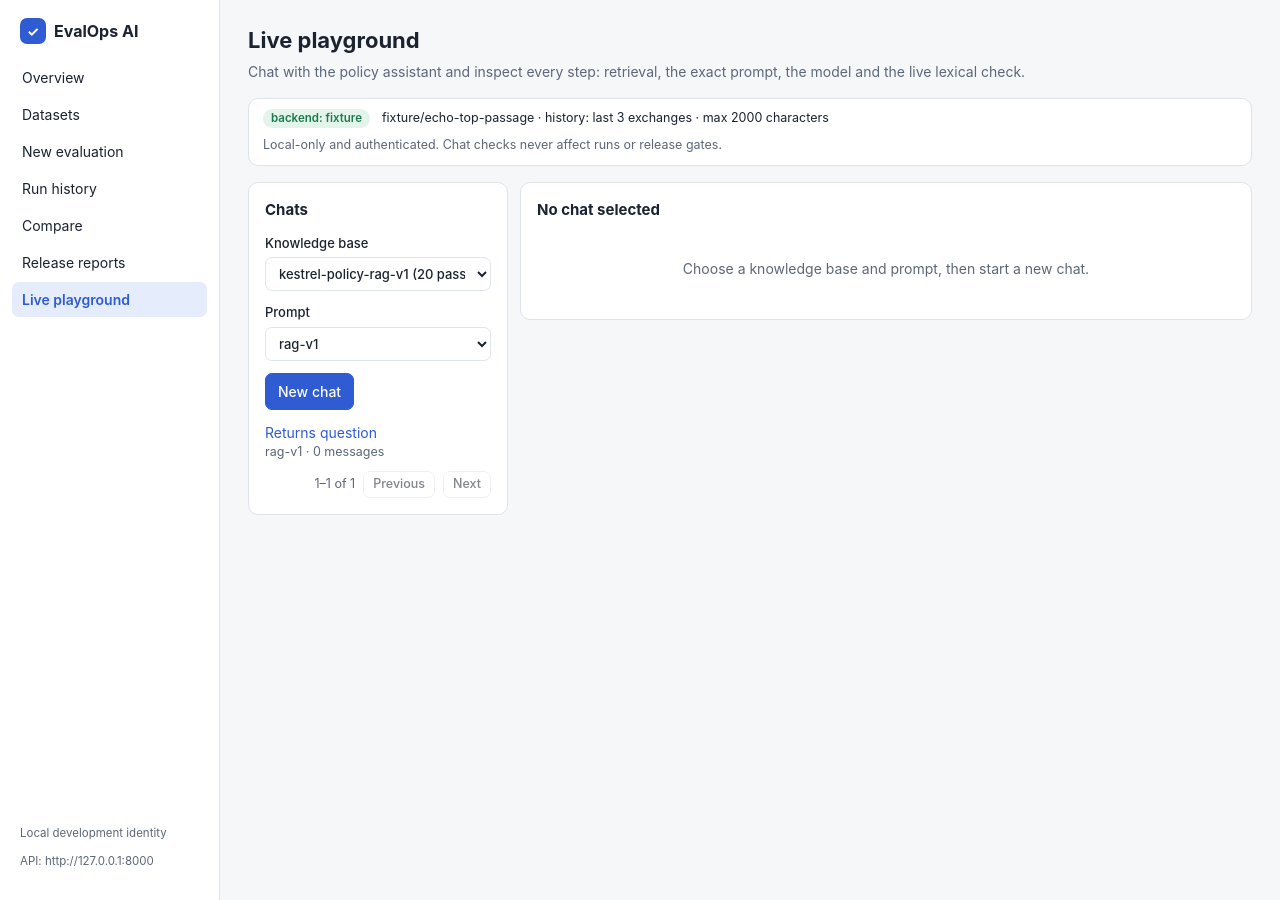
Test case: Live playground › shows a busy error with Retry that resends the same message
Click the button "Returns question". click: (321, 432)
box: [265,422,377,442]
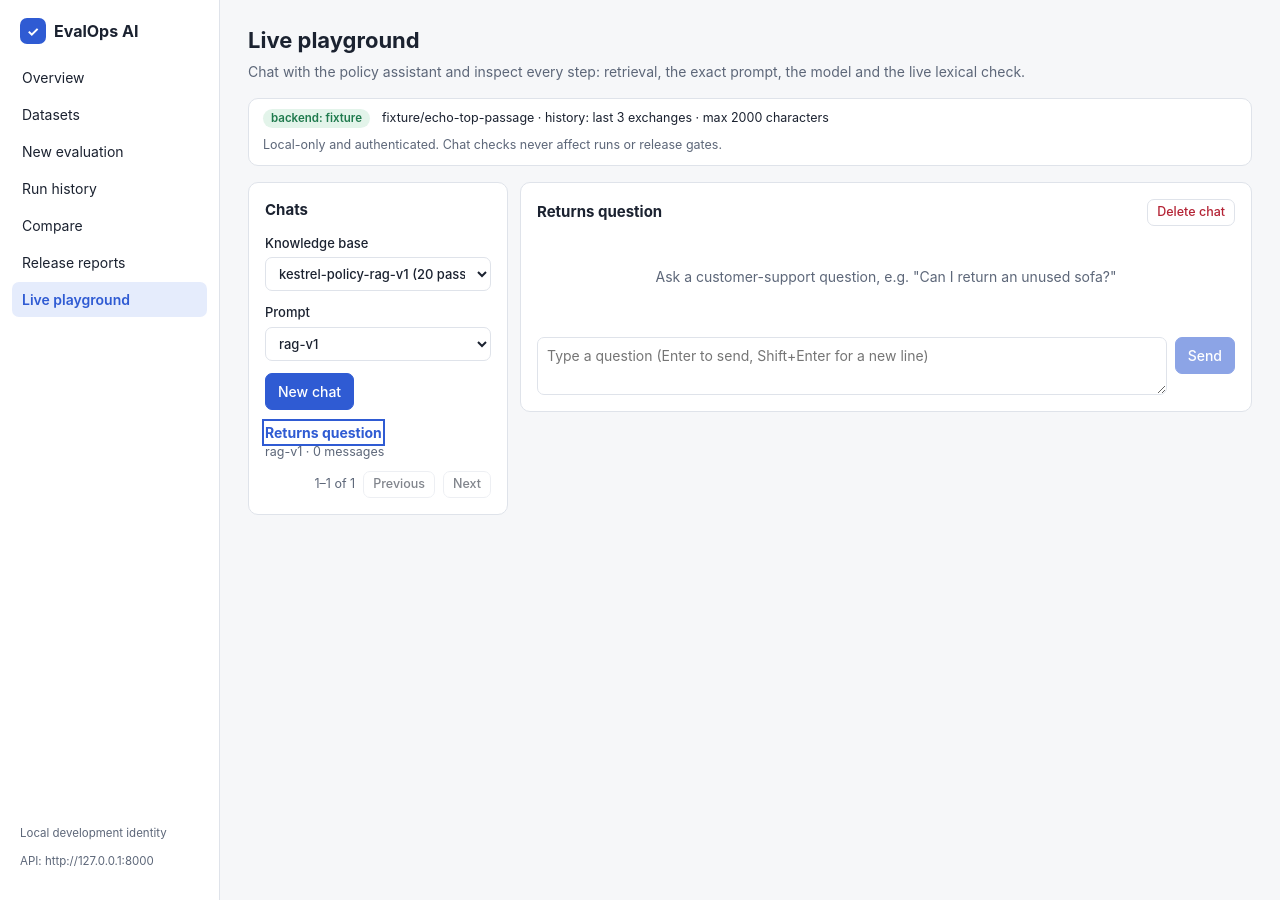
Type "Can I return an unused sofa?" into the text box named "Message". click: (852, 366)
box: [537,337,1167,395]
Then press Enter
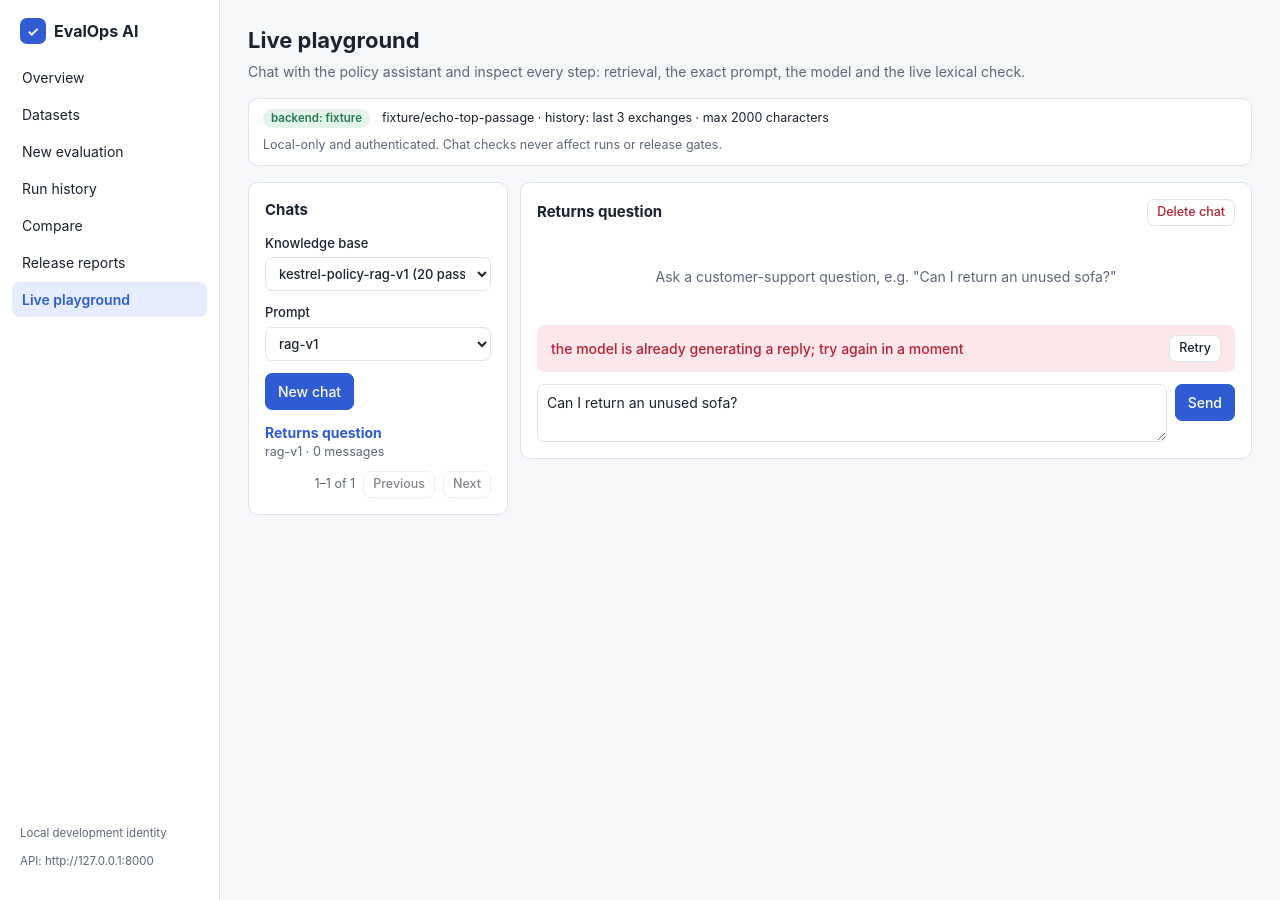
Now the message shows "already generating", box [551,340,964,357]
Click the button "Retry". click: (1195, 348)
box: [1169,335,1221,362]
(page scrolled)
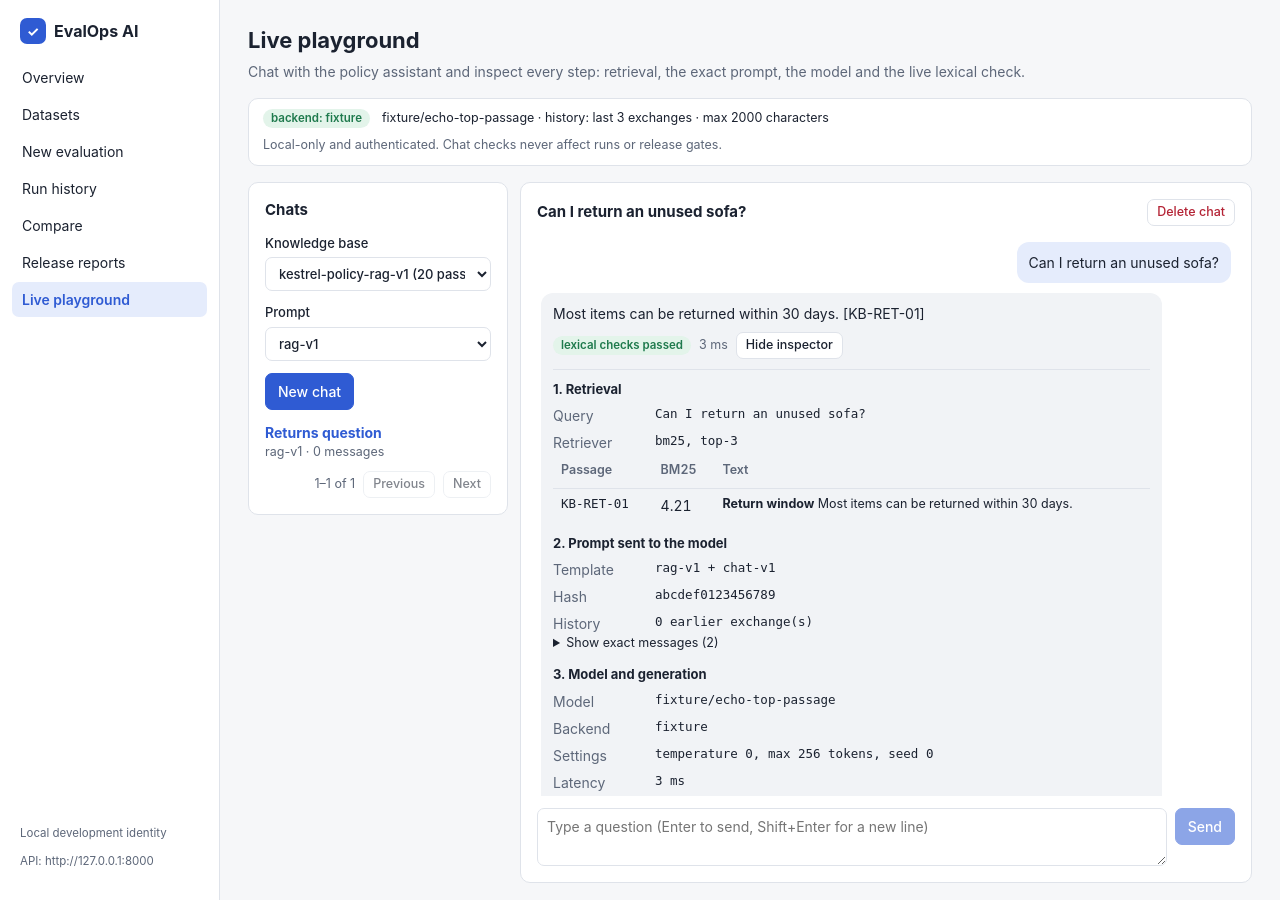
Now the text "Most items can be returned within 30 days. [KB-RET-01]" is shown, box [553,305,925,322]
